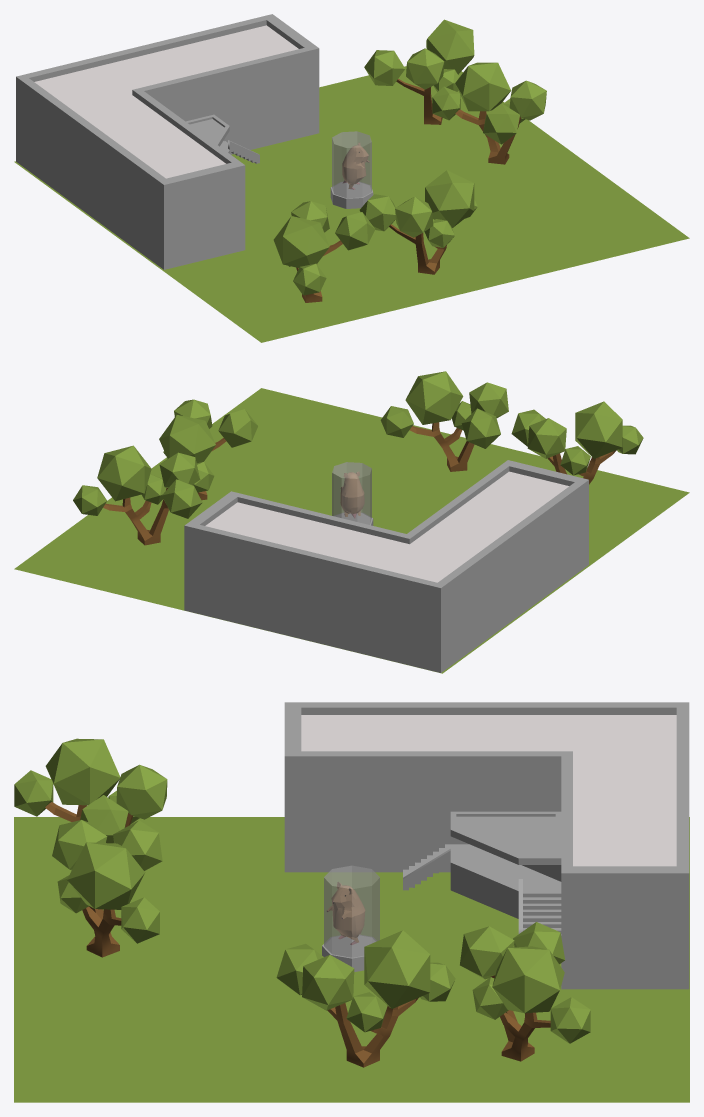
Rendered from lab_concept.fbx.
3 renders of one model, top to bottom at view 1: azimuth 30°, elevation 25°; view 2: azimuth 150°, elevation 25°; view 3: azimuth 270°, elevation 25°, orthographic. The views are drawn at different scales.
Visible parts, largest first — view 1: pPlane1, polySurface12, tree_4, tree_2, tree_3, tree_1:tree_1, pCylinder1, pCylinder2, lowpoly_textured_hard_300only:hamste; view 2: polySurface12, pPlane1, tree_3, tree_2, tree_1:tree_1, tree_4, pCylinder1, lowpoly_textured_hard_300only:hamste; view 3: pPlane1, polySurface12, tree_4, tree_3, tree_2, tree_1:tree_1, pCylinder1, lowpoly_textured_hard_300only:hamste, pCylinder2.
Boxes of the visible parts, left/top/right/bottom form: pPlane1: left=14, top=66, right=689, bottom=342; polySurface12: left=16, top=14, right=319, bottom=269; tree_4: left=432, top=62, right=546, bottom=164; tree_2: left=359, top=170, right=477, bottom=274; tree_3: left=364, top=19, right=474, bottom=124; tree_1:tree_1: left=273, top=201, right=375, bottom=302; pCylinder1: left=332, top=131, right=371, bottom=198; pCylinder2: left=330, top=182, right=373, bottom=208; lowpoly_textured_hard_300only:hamste: left=342, top=142, right=369, bottom=189; polySurface12: left=184, top=460, right=588, bottom=672; pPlane1: left=14, top=388, right=689, bottom=673; tree_3: left=73, top=445, right=202, bottom=545; tree_2: left=380, top=371, right=508, bottom=471; tree_1:tree_1: left=511, top=401, right=643, bottom=484; tree_4: left=159, top=399, right=257, bottom=500; pCylinder1: left=332, top=462, right=371, bottom=524; lowpoly_textured_hard_300only:hamste: left=340, top=471, right=364, bottom=518; pPlane1: left=14, top=817, right=689, bottom=1102; polySurface12: left=284, top=702, right=689, bottom=989; tree_4: left=276, top=930, right=455, bottom=1067; tree_3: left=460, top=922, right=590, bottom=1061; tree_2: left=52, top=820, right=162, bottom=957; tree_1:tree_1: left=14, top=738, right=167, bottom=843; pCylinder1: left=324, top=865, right=379, bottom=957; lowpoly_textured_hard_300only:hamste: left=327, top=882, right=365, bottom=944; pCylinder2: left=322, top=935, right=376, bottom=971.
Size of the model in its own units: 24.01 by 4.73 by 24.01.
